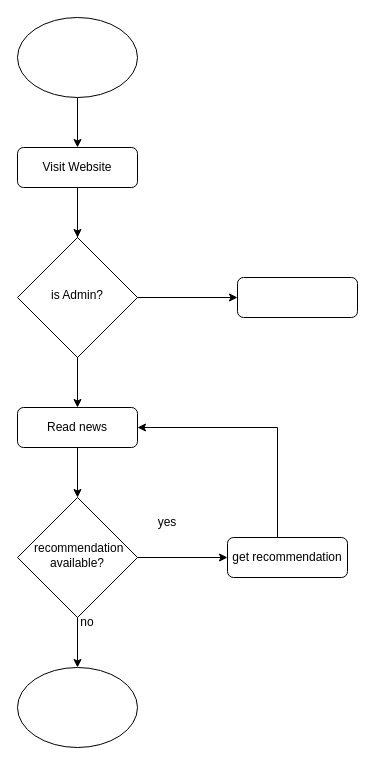
Image size: 375x765. Some labels were removed from this diagram. The shapes that lost their labels are listed below. From the top down, each one's centre as x and y in pixels, then its label:
the point at 77,57: Start
the point at 297,297: Manage News
the point at 77,707: Exit
